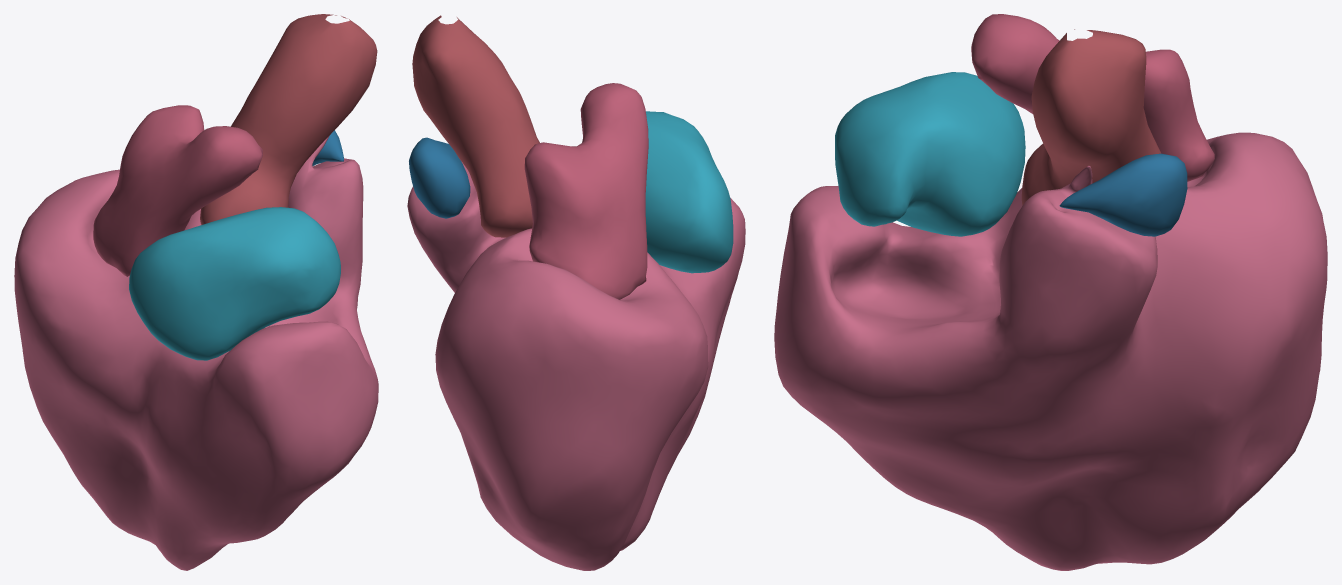
Rendered from frame_70.glb.
3 renders of one model, left to right at view 1: azimuth 30°, elevation 25°; view 2: azimuth 150°, elevation 25°; view 3: azimuth 270°, elevation 25°, orthographic. The views are drawn at different scales.
Parts seen in each view (by area): view 1: Renderer Node; view 2: Renderer Node; view 3: Renderer Node.
Part boxes in pixels (x1=…): Renderer Node: x1=14, y1=14, x2=378, y2=570; Renderer Node: x1=407, y1=15, x2=745, y2=570; Renderer Node: x1=774, y1=14, x2=1327, y2=570.
Size of the model in its own units: 103 by 161 by 128.
